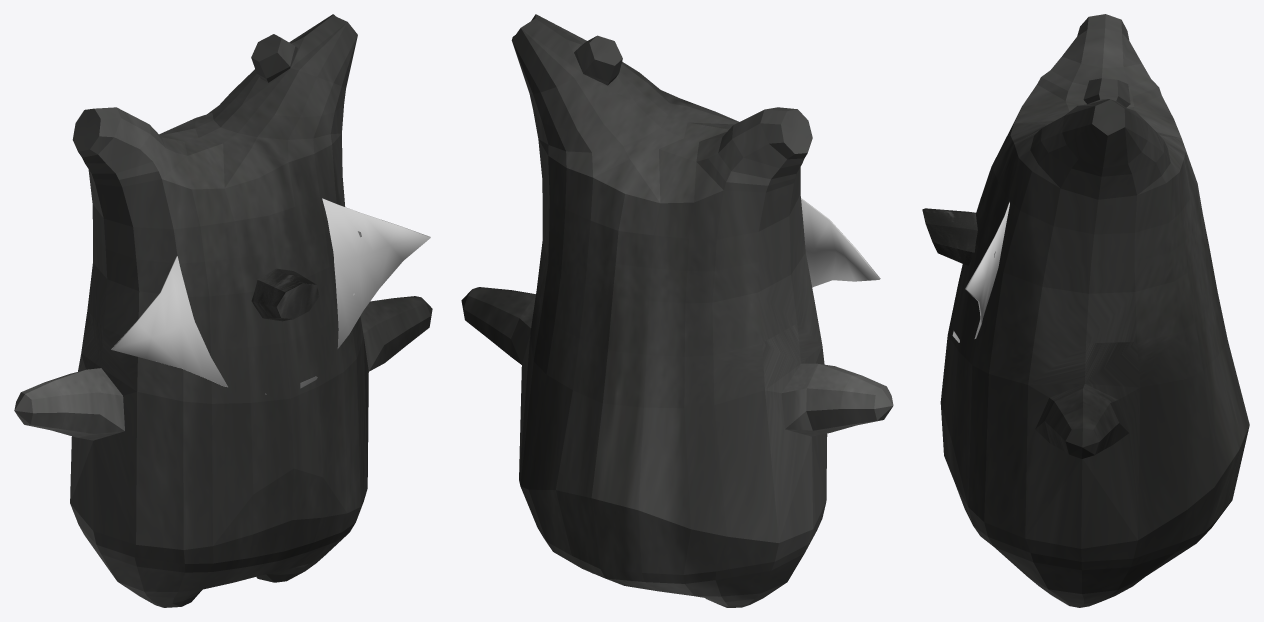
The model's file is frame_0035.obj.
3 renders of one model, left to right at view 1: azimuth 30°, elevation 25°; view 2: azimuth 150°, elevation 25°; view 3: azimuth 270°, elevation 25°, orthographic. The views are drawn at different scales.
Visible parts, largest first — view 1: korok, leaf, nose; view 2: korok, leaf; view 3: korok, nose, leaf.
Part boxes in pixels (left/top/right/bottom): korok: left=14, top=14, right=432, bottom=607; leaf: left=111, top=198, right=430, bottom=394; nose: left=251, top=268, right=319, bottom=321; korok: left=461, top=14, right=893, bottom=607; leaf: left=801, top=198, right=880, bottom=287; korok: left=940, top=14, right=1249, bottom=607; nose: left=922, top=208, right=977, bottom=265; leaf: left=952, top=202, right=1009, bottom=342.
Bounding box in the file's own units: 1.84 × 2.25 × 1.24.
